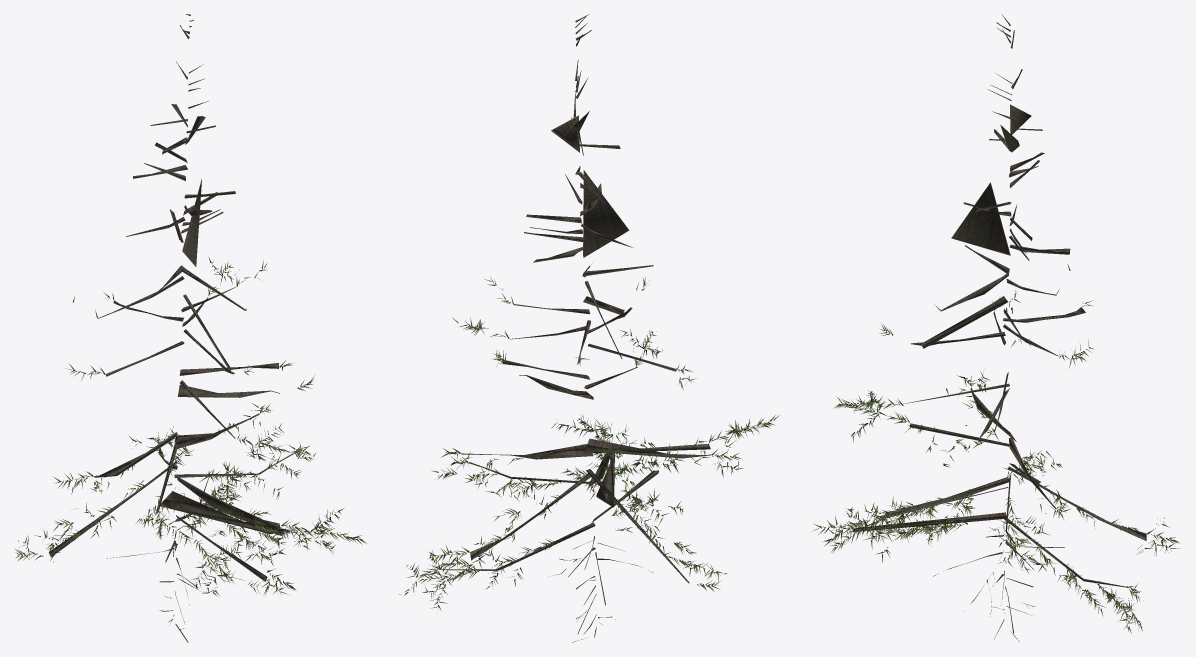
The model's file is fir_medium_b_lodfar.gltf.
The picture shows the model from 3 angles, left to right: view 1: azimuth 30°, elevation 25°; view 2: azimuth 150°, elevation 25°; view 3: azimuth 270°, elevation 25°; orthographic projection.
Parts seen in each view (by area): view 1: fir_sapling_medium_b_LOD0.001, fir_sapling_medium_b_LOD0.002; view 2: fir_sapling_medium_b_LOD0.001, fir_sapling_medium_b_LOD0.002; view 3: fir_sapling_medium_b_LOD0.001, fir_sapling_medium_b_LOD0.002, fir_sapling_medium_b_LOD0.
Part boxes in pixels (x1,y1,x2,y2): fir_sapling_medium_b_LOD0.001: [49, 14, 293, 581]; fir_sapling_medium_b_LOD0.002: [15, 257, 367, 596]; fir_sapling_medium_b_LOD0.001: [441, 14, 711, 583]; fir_sapling_medium_b_LOD0.002: [399, 264, 779, 610]; fir_sapling_medium_b_LOD0.001: [852, 14, 1146, 587]; fir_sapling_medium_b_LOD0.002: [813, 264, 1179, 633]; fir_sapling_medium_b_LOD0: [933, 530, 1064, 641].
Bounding box in the file's own units: 3.56 × 7.09 × 3.82.
Materials: 3 (3 with a texture image).
